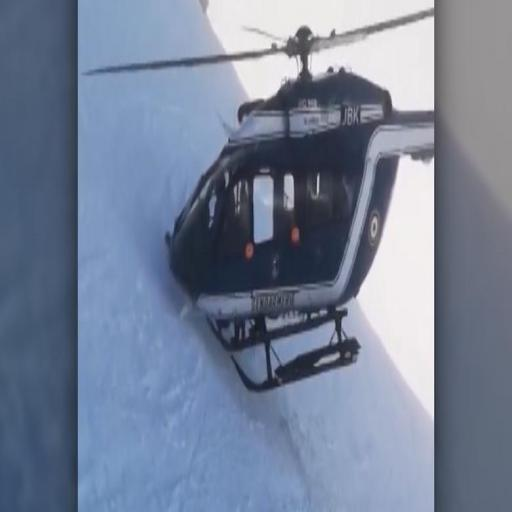helicopter: (79, 3, 436, 385)
